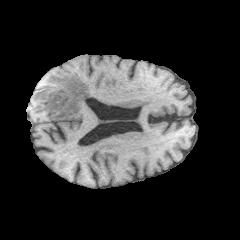glioma: (30, 74, 92, 120)
